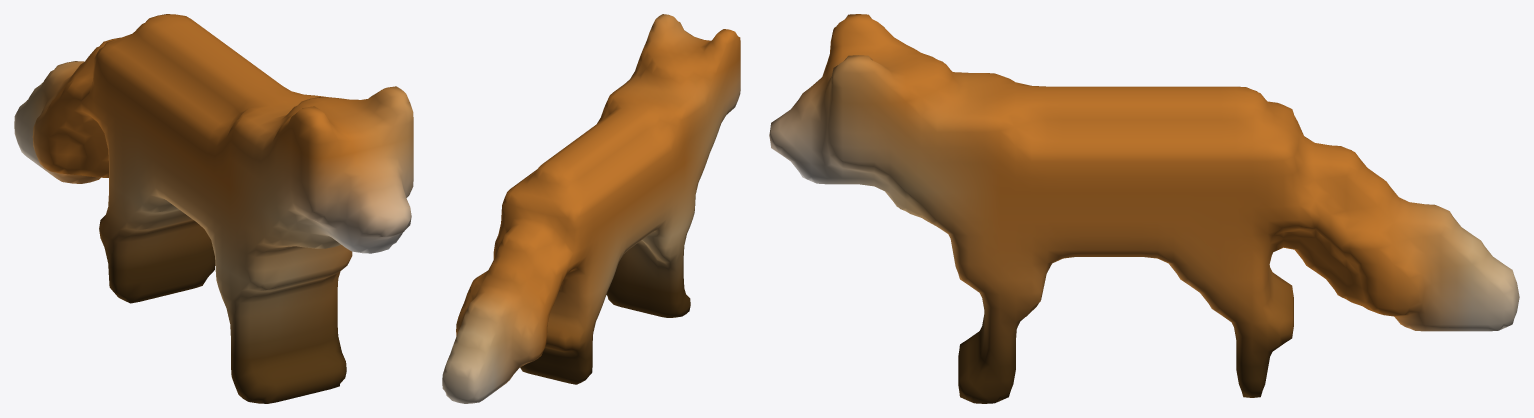
The model's file is Fox_064B_vox.glb.
3 renders of one model, left to right at view 1: azimuth 30°, elevation 25°; view 2: azimuth 150°, elevation 25°; view 3: azimuth 270°, elevation 25°, orthographic. The views are drawn at different scales.
Parts seen in each view (by area): view 1: shapehash-vox; view 2: shapehash-vox; view 3: shapehash-vox.
Part boxes in pixels (x1,y1,x2,y2): shapehash-vox: [14, 14, 413, 403]; shapehash-vox: [442, 14, 740, 403]; shapehash-vox: [769, 14, 1519, 403].
Size of the model in its own units: 0.3438 by 1.02 by 1.99.
